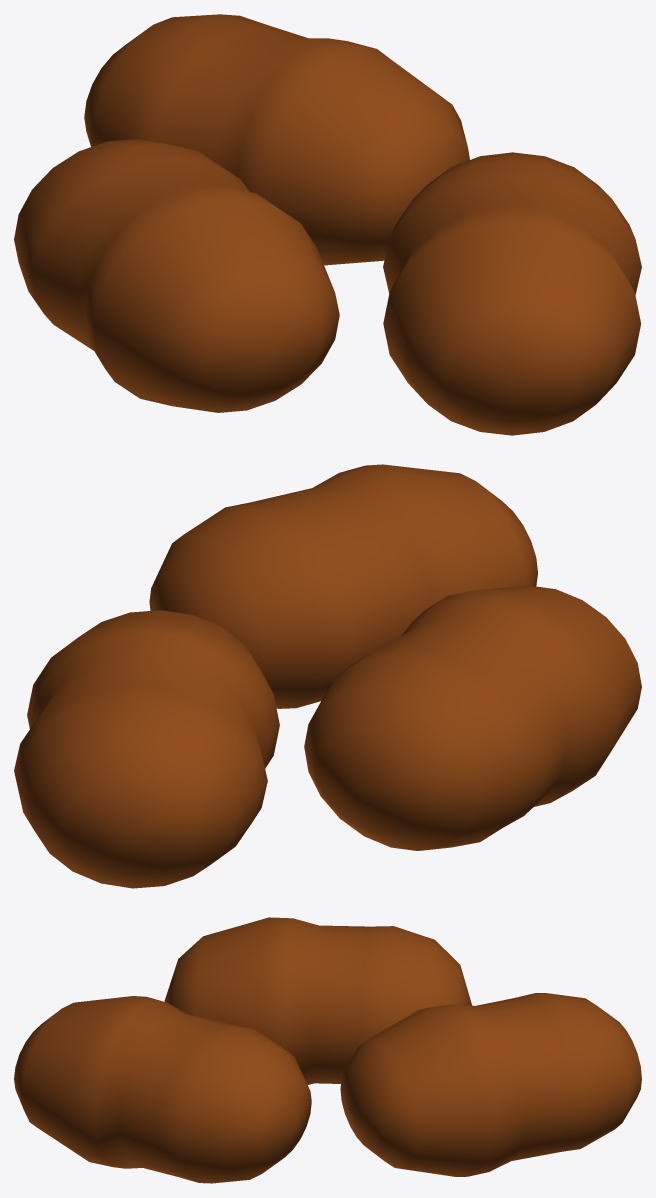
File: SeedV1.obj
3 renders of one model, top to bottom at view 1: azimuth 30°, elevation 25°; view 2: azimuth 150°, elevation 25°; view 3: azimuth 270°, elevation 25°, orthographic. The views are drawn at different scales.
Parts seen in each view (by area): view 1: pSphere4; view 2: pSphere4; view 3: pSphere4.
Part boxes in pixels (x1=…): pSphere4: x1=14, y1=14, x2=641, y2=435; pSphere4: x1=14, y1=464, x2=641, y2=888; pSphere4: x1=14, y1=917, x2=641, y2=1183.
Size of the model in its own units: 0.5714 by 0.2271 by 0.8349.
1 material, 1 textured.
